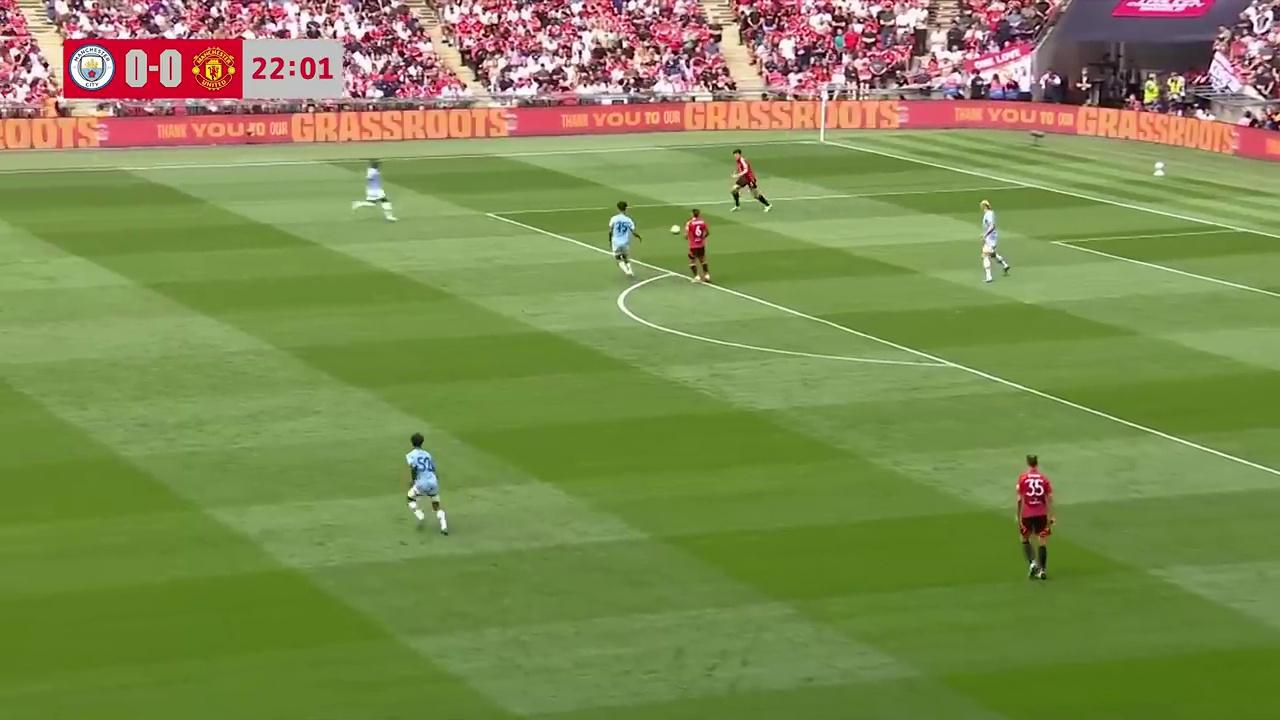ball: (670, 224, 681, 236)
player: (1014, 454, 1055, 581), (405, 432, 449, 533), (969, 200, 1009, 282), (731, 149, 771, 218), (354, 160, 395, 221), (607, 203, 640, 277), (683, 210, 710, 284)
